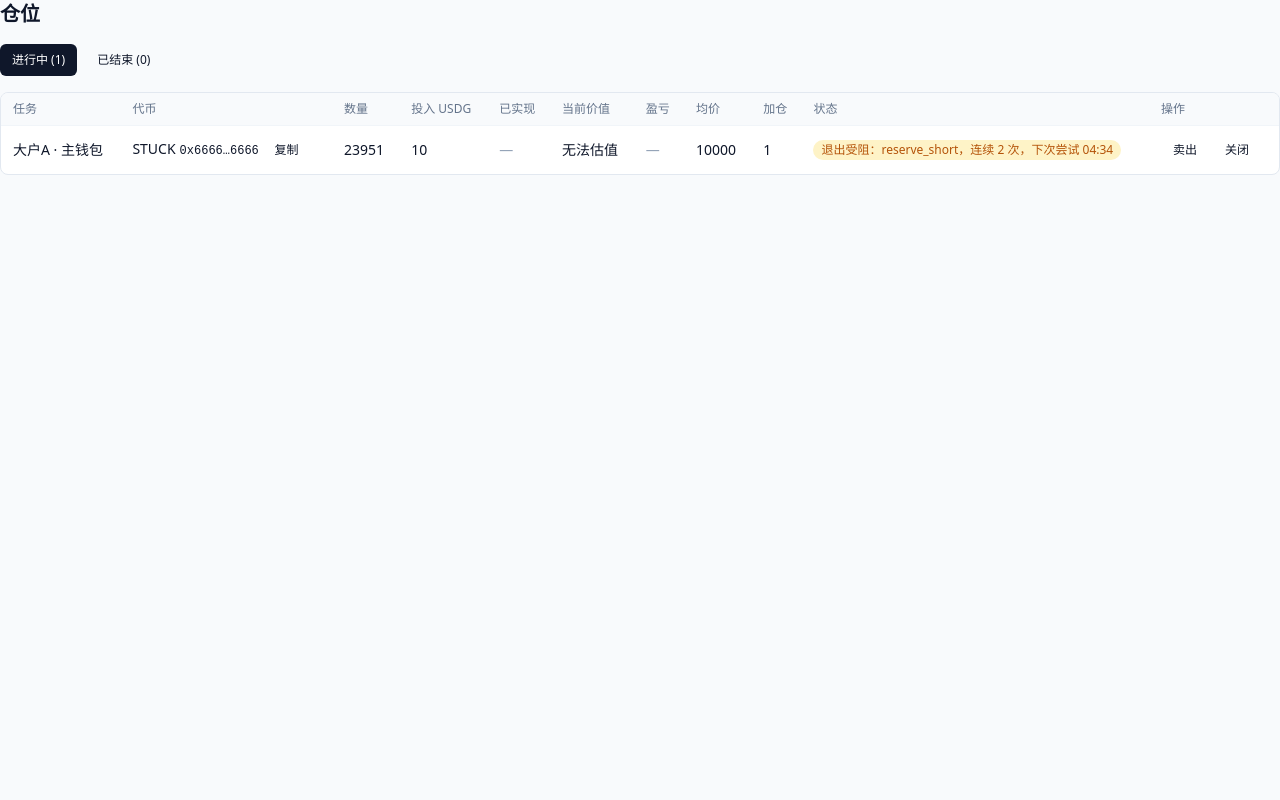
abandons an unsellable position after confirming, and says the tokens stay put
Later steps or results of the test are not shown.
Expected: the text "无法估值" is shown, [550,126,634,174]
Click the button "关闭" at (1237, 150), box [1213,134,1261,166]
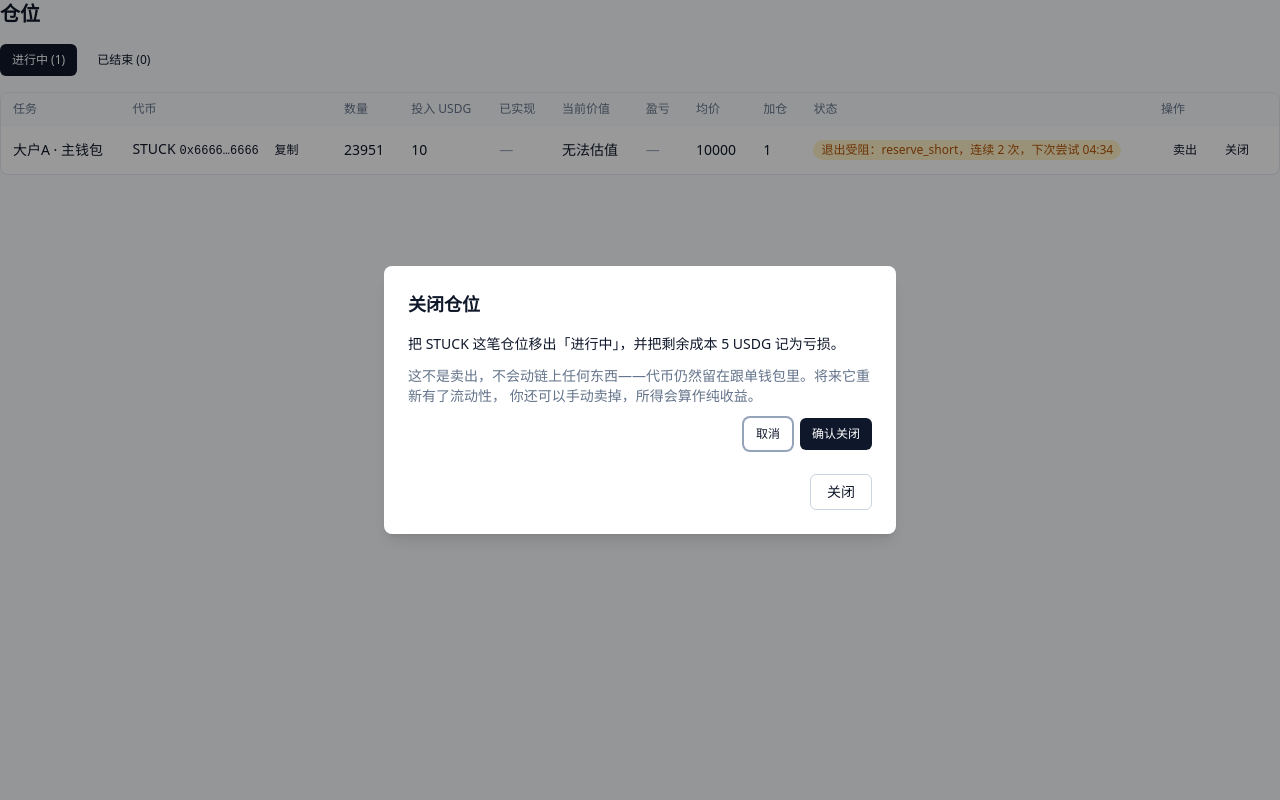
Expected: the text "这不是卖出，不会动链上任何东西——代币仍然留在跟单钱包里。将来它重新有了流动性， 你还可以手动卖掉，所得会算作纯收益。" is shown, [408,366,872,406]
Expected: the text "5 USDG" is shown, [721,334,771,353]
